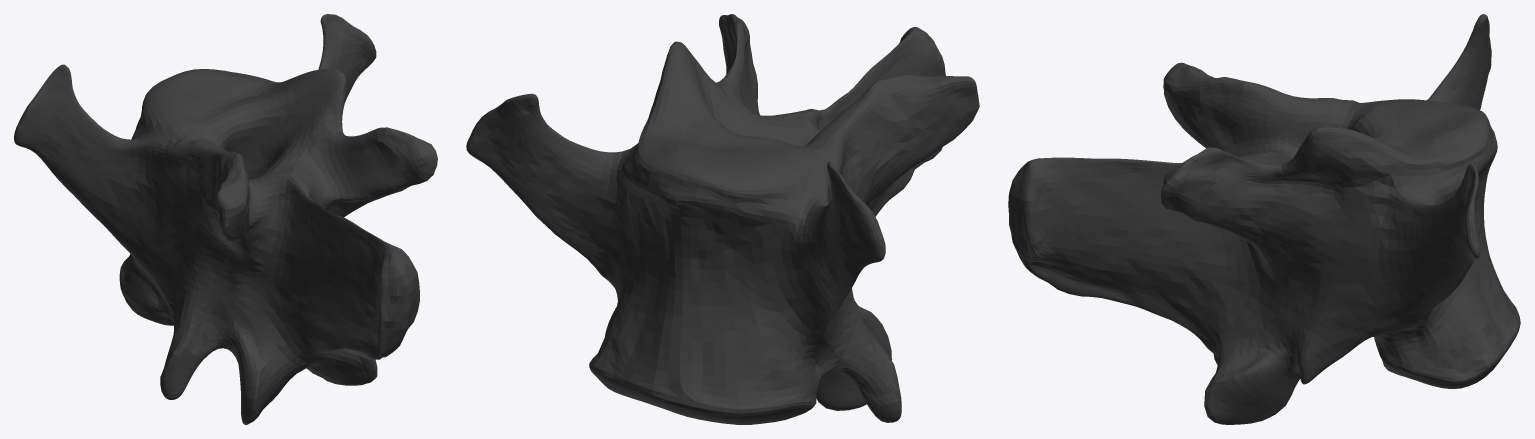
3 views of the same model, side by side, from view 1: azimuth 30°, elevation 25°; view 2: azimuth 150°, elevation 25°; view 3: azimuth 270°, elevation 25° (orthographic). The views are drawn at different scales.
Visible parts, largest first — view 1: l1_low; view 2: l1_low; view 3: l1_low.
Boxes of the visible parts, <box> form: l1_low: <box>14,14,437,424</box>; l1_low: <box>466,14,979,424</box>; l1_low: <box>1008,14,1520,424</box>.
Bounding box in the file's own units: 50.18 × 40.96 × 56.15.
Materials: 1 (1 with a texture image).
